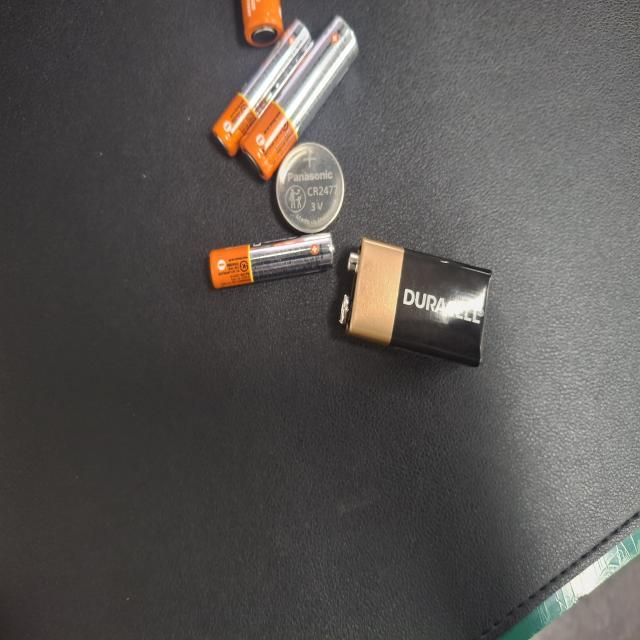9V: (179, 197, 276, 397)
AA: (12, 376, 135, 533), (0, 474, 35, 537)
AAA: (16, 435, 118, 570), (173, 406, 216, 576)
COIN: (106, 394, 176, 485)
